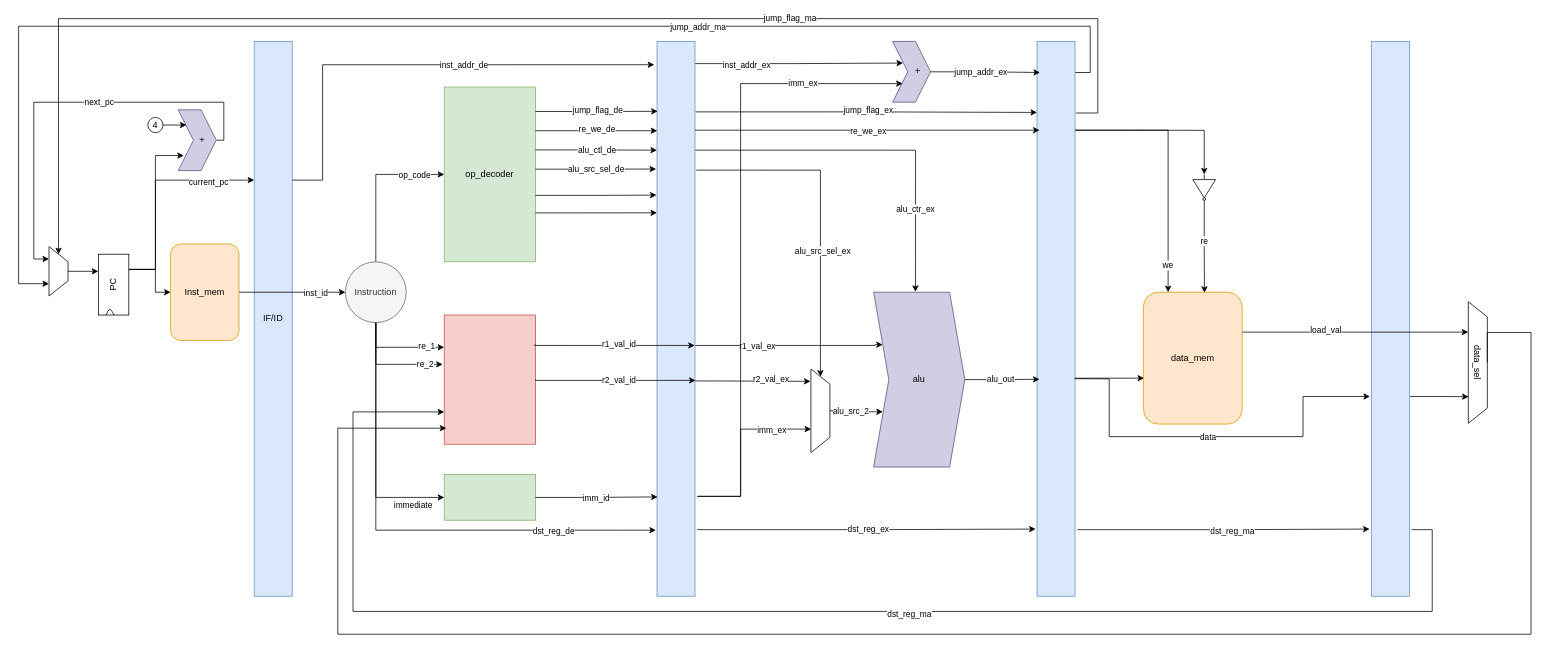
Some shapes in this 1550 by 654 pixel diagram are drawn without their labels. The centre of each missing label's shape, as x and y in pixels:
alu_src_mux: the point at 820,410
EX/MA: the point at 1055,318
ID/EX: the point at 675,318
MA/WB: the point at 1390,318
register_file: the point at 489,379
sign_extend: the point at 489,497
